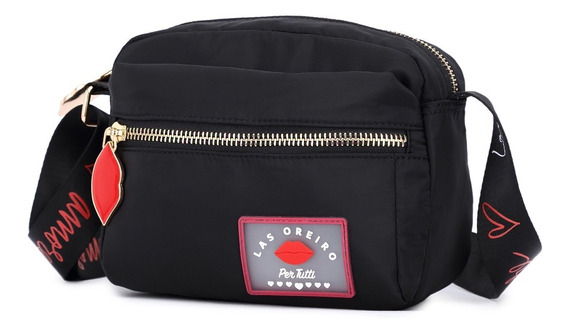cartera: (25, 14, 544, 313)
